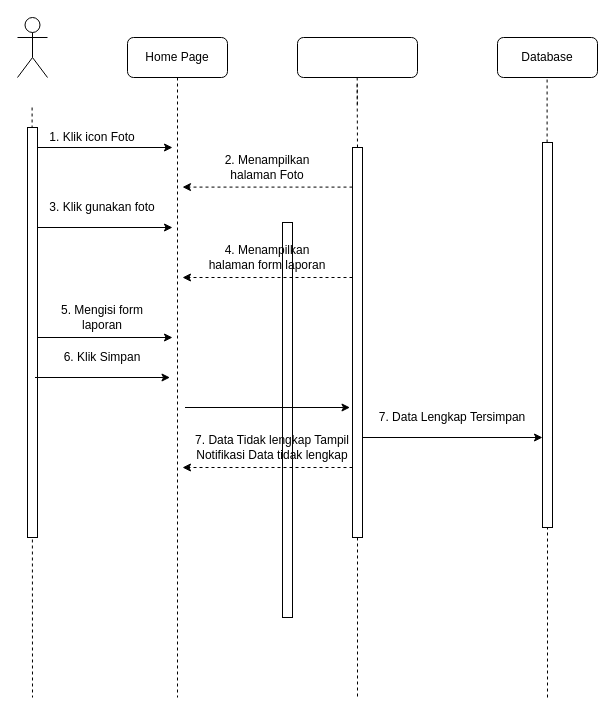
This 615x716 diagram has some shape labels left out. The box of each missing label's shape, as (x1, y1, x2, y2) in pixels:
Sistem: (296, 36, 418, 78)
User: (16, 16, 48, 78)
